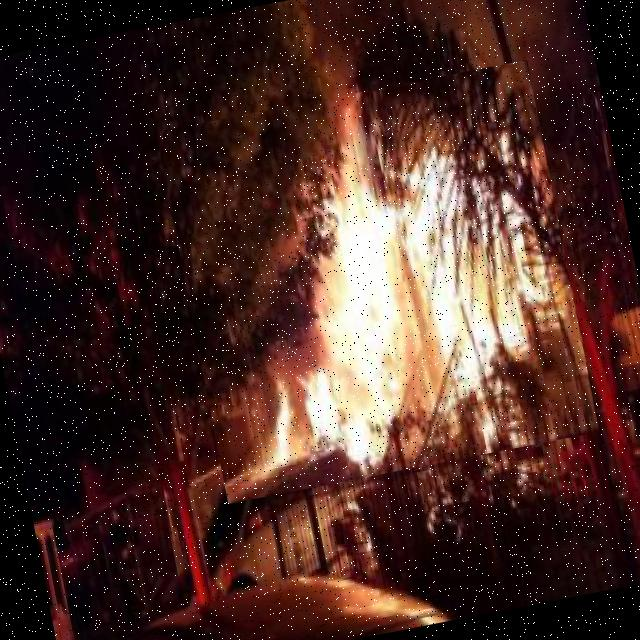fire: (156, 60, 600, 504)
